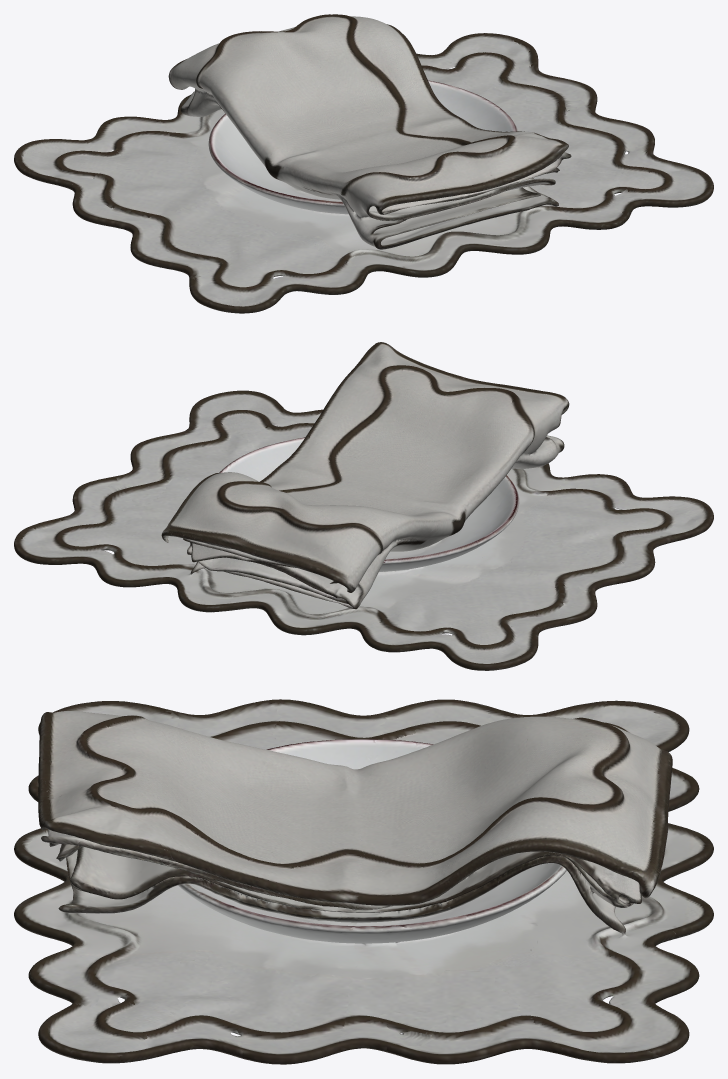
The model's file is design3.glb.
3 renders of one model, top to bottom at view 1: azimuth 30°, elevation 25°; view 2: azimuth 150°, elevation 25°; view 3: azimuth 270°, elevation 25°, orthographic. The views are drawn at different scales.
Size of the model in its own units: 1.9 by 0.3985 by 1.56.
1 material, 1 textured.
